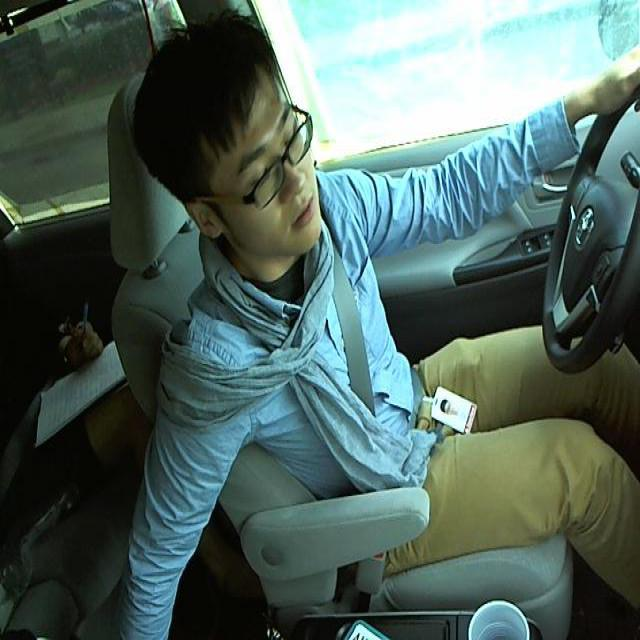seatbelt: (322, 253, 424, 504)
